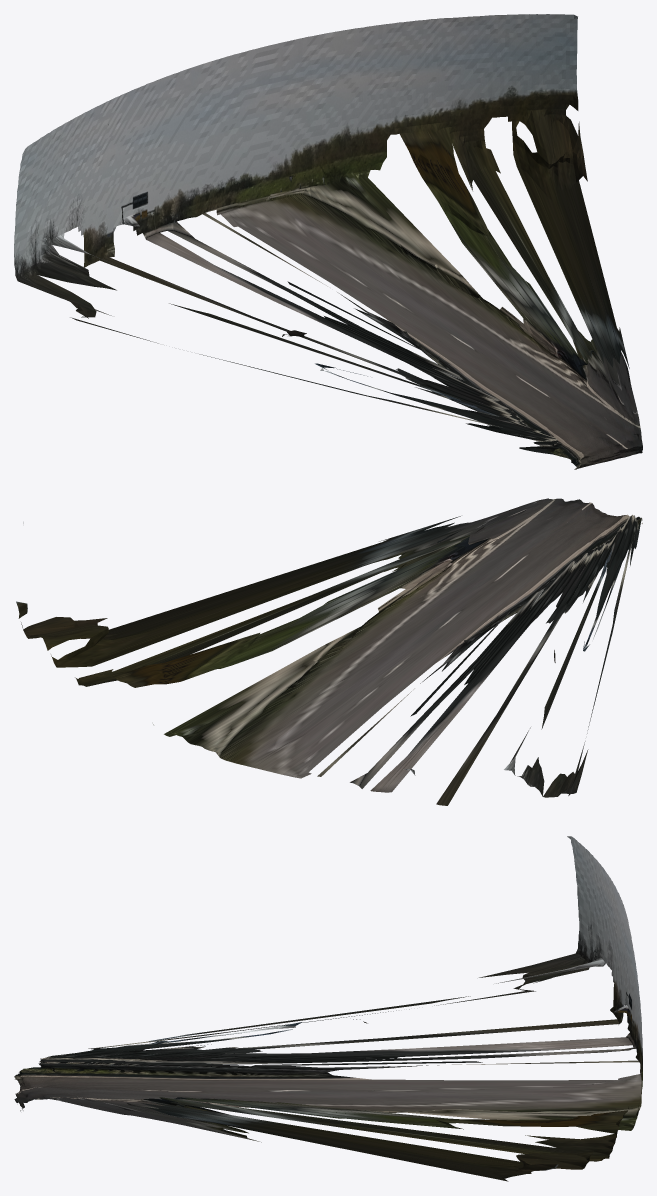
3 renders of one model, top to bottom at view 1: azimuth 30°, elevation 25°; view 2: azimuth 150°, elevation 25°; view 3: azimuth 270°, elevation 25°, orthographic. The views are drawn at different scales.
Visible parts, largest first — view 1: defaultobject; view 2: defaultobject; view 3: defaultobject.
Boxes of the visible parts, bbox=[...] form: defaultobject: bbox=[14, 14, 642, 469]; defaultobject: bbox=[16, 498, 642, 805]; defaultobject: bbox=[14, 836, 642, 1181].
Size of the model in its own units: 41.08 by 11.99 by 44.38.
1 material, 1 textured.
